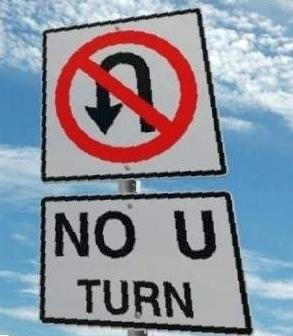no_u_turn: (55, 31, 196, 160)
